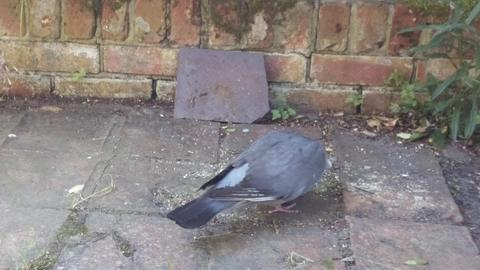wood pigeon: (166, 131, 326, 230)
